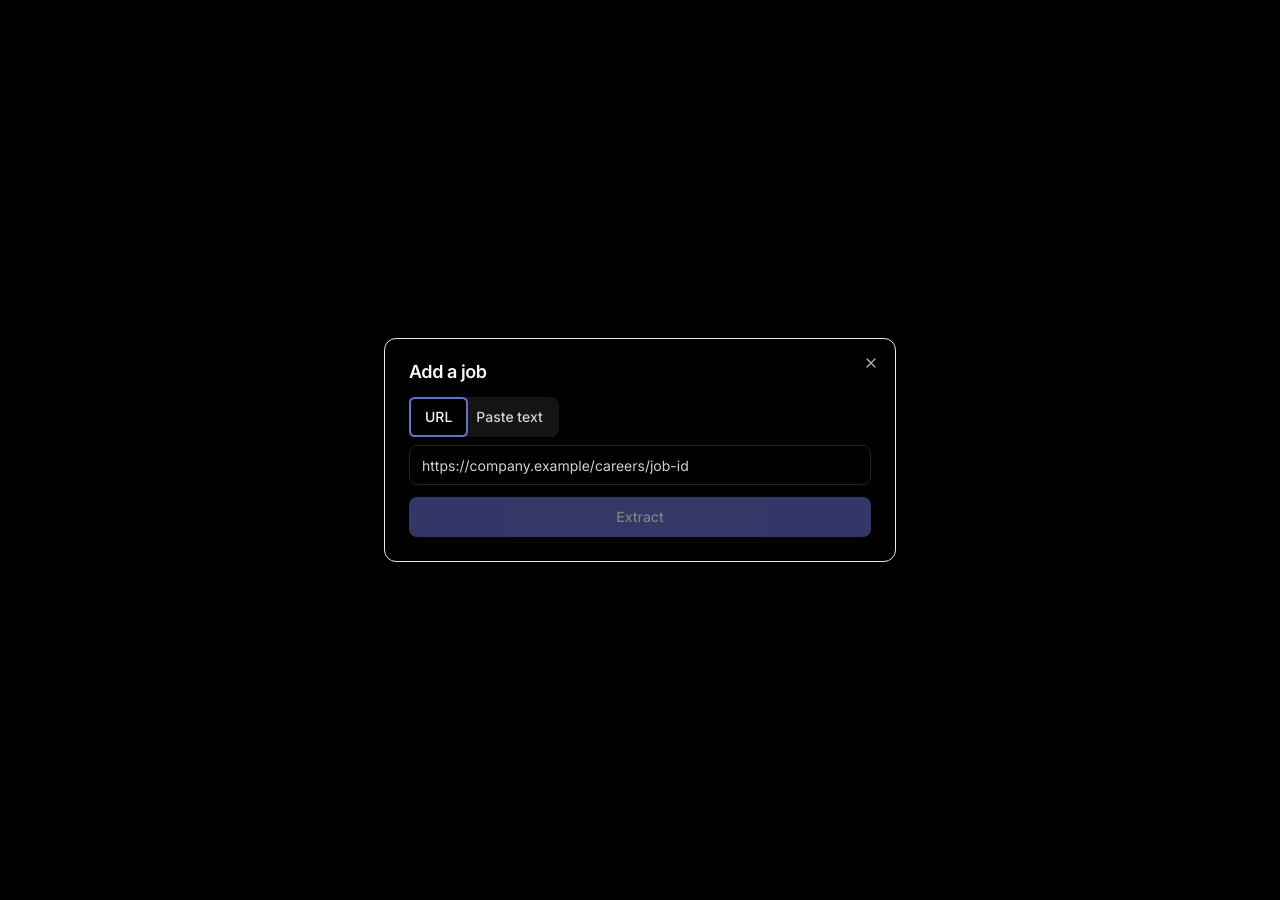
Scenario: AddJobDialog › shows an error message when the extract request itself fails (network error)
In the field named "Job posting URL": coordinates (640, 465) x1=409 y1=445 x2=871 y2=485, type "https://acme.example/jobs/1"
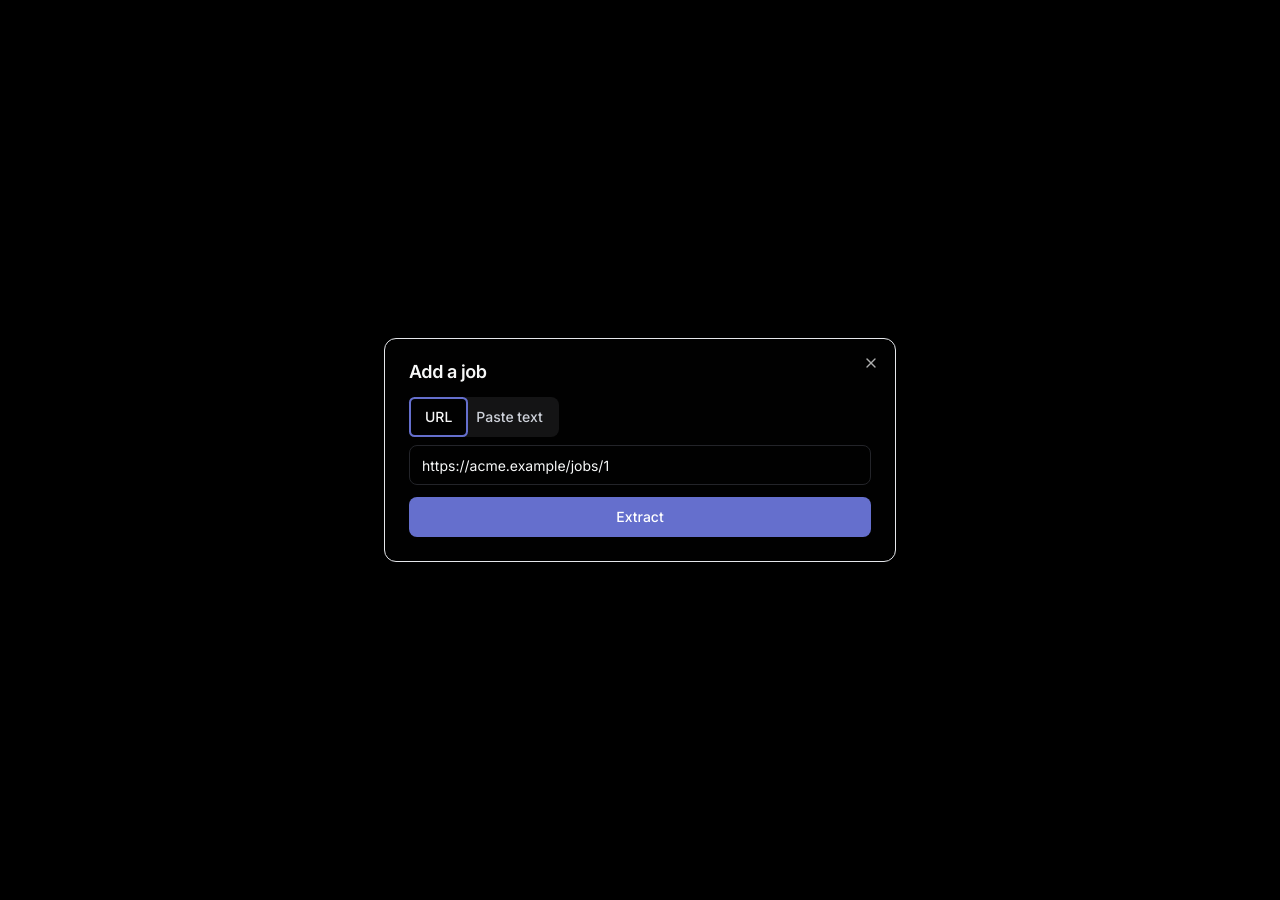
Click the button "Extract": coordinates (640, 517) x1=409 y1=497 x2=871 y2=537
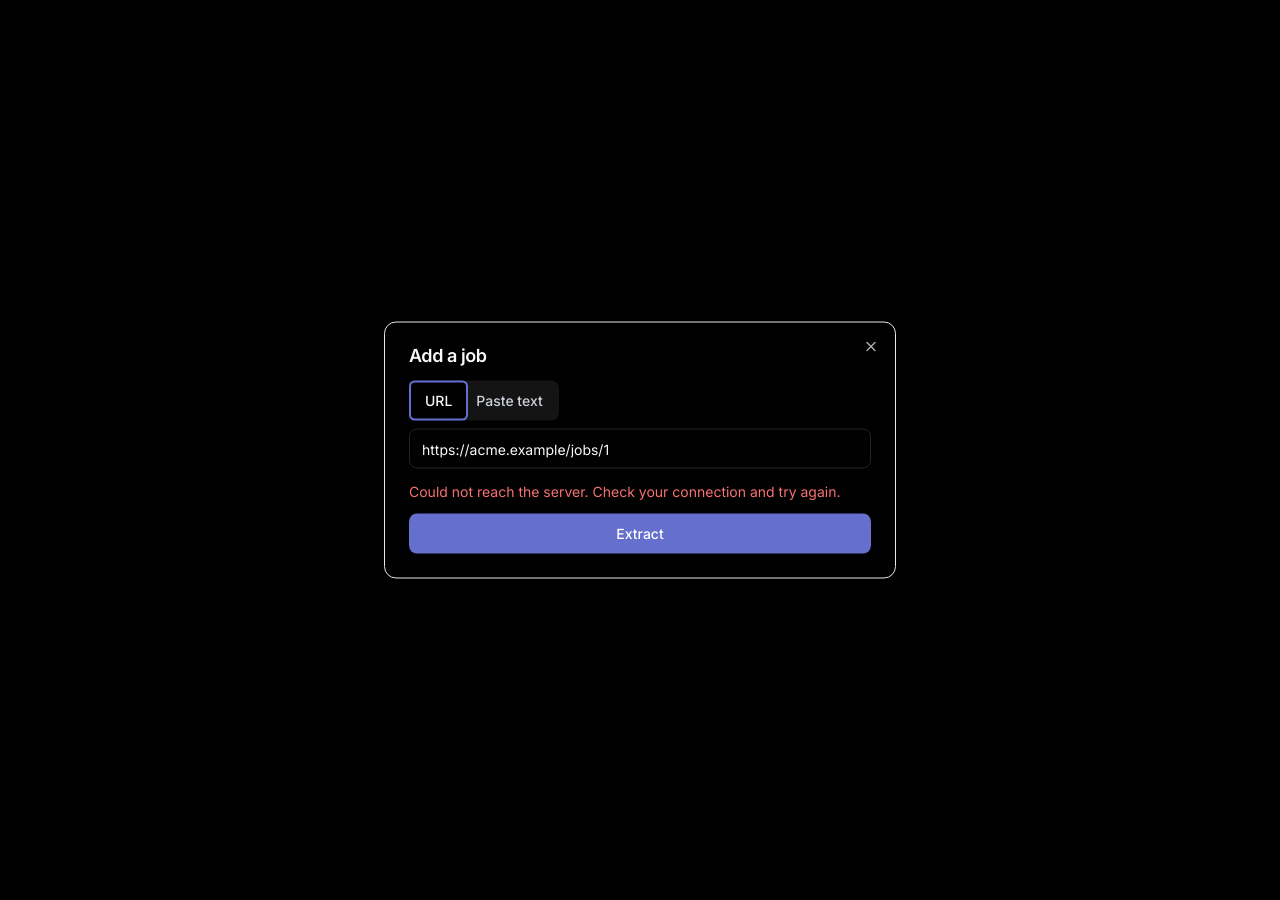
Expected: the button "Extract" is enabled, x1=409 y1=514 x2=871 y2=554
Expected: the text "Could not reach the server" is shown, x1=409 y1=482 x2=840 y2=500
